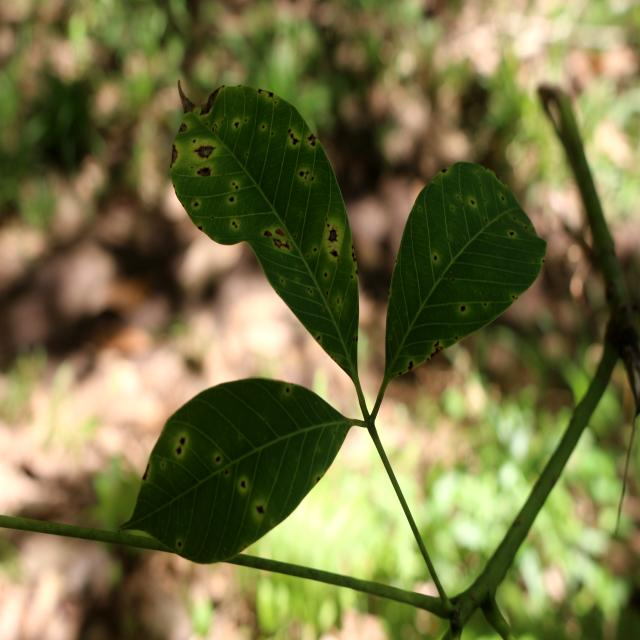Colletotrichum: (176, 446, 182, 455), (180, 436, 185, 446), (460, 305, 466, 312), (229, 197, 234, 202), (434, 255, 437, 261), (324, 272, 327, 278), (236, 186, 238, 189)
Leaf-Blight: (178, 80, 195, 114), (200, 89, 218, 116), (170, 144, 178, 168)
